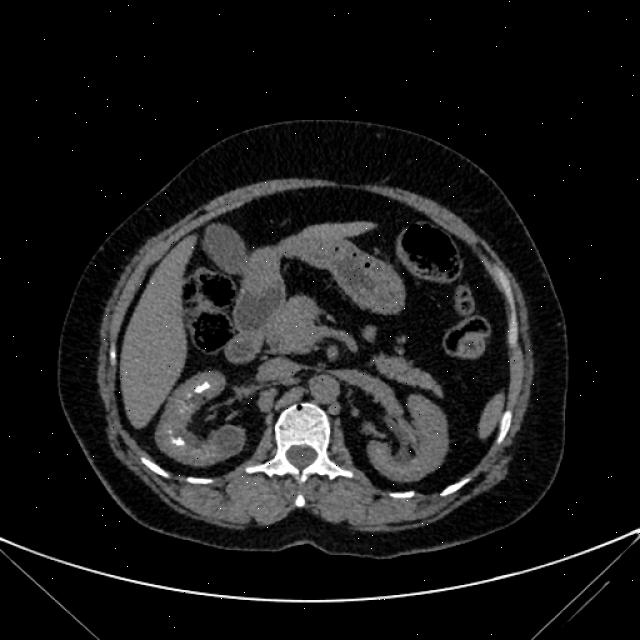kidneystone: (194, 382, 210, 393), (171, 436, 184, 446)
